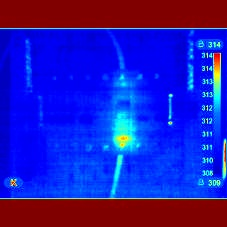High: (115, 116, 140, 150)
